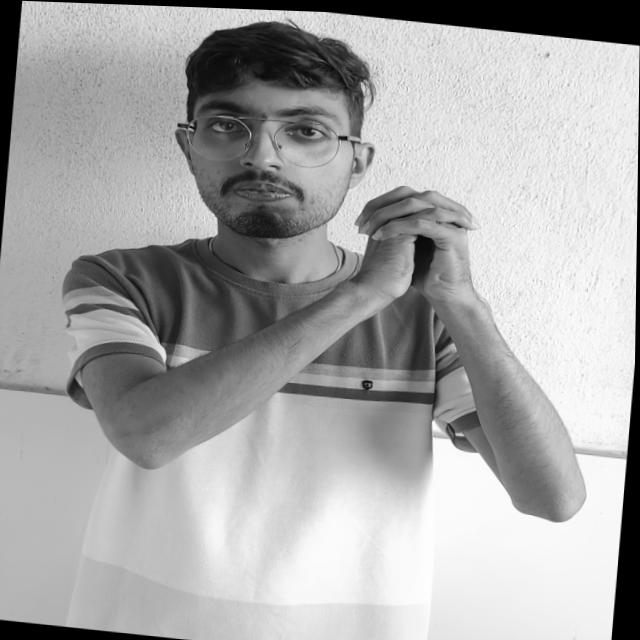Sorry: (326, 164, 532, 334)
